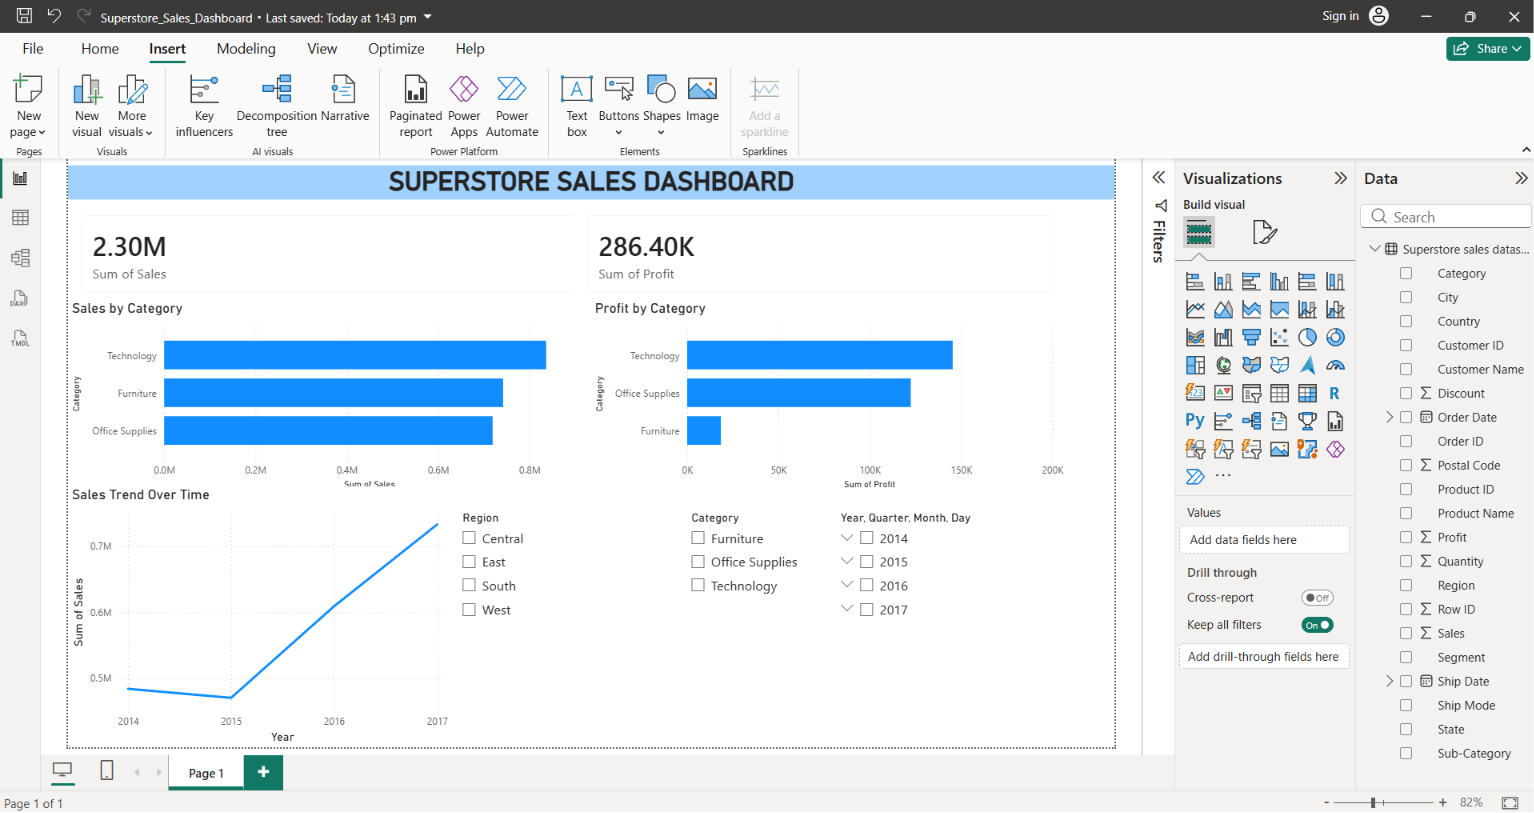

What the dashboard file says about the page in this screenshot:
{"tool":"powerbi","page":{"name":"Page 1","canvas":[1280,720],"ordinal":0},"visuals":[{"type":"cardVisual","fields":{"Data":["Sum(Superstore sales dataset.Sales)","Sum(Superstore sales dataset.Sales)"]},"box":[0,52.6,640.8,128.4],"z":0},{"type":"cardVisual","fields":{"Data":["Sum(Superstore sales dataset.Profit)"]},"box":[618.8,52.6,604.1,128.4],"z":1000},{"type":"clusteredBarChart","title":"Sales by Category","fields":{"Category":["Superstore sales dataset.Category"],"Y":["Sum(Superstore sales dataset.Sales)"]},"box":[0,172.4,639.5,237.2],"z":2000},{"type":"clusteredBarChart","title":"Profit by Category","fields":{"Category":["Superstore sales dataset.Category"],"Y":["Sum(Superstore sales dataset.Profit)"]},"box":[639.5,172.4,583.3,237.2],"z":3000},{"type":"lineChart","title":"Sales Trend Over Time","fields":{"Category":["Superstore sales dataset.Order Date.Variation.Date Hierarchy.Year","Superstore sales dataset.Order Date.Variation.Date Hierarchy.Quarter","Superstore sales dataset.Order Date.Variation.Date Hierarchy.Month","Superstore sales dataset.Order Date.Variation.Date Hierarchy.Day"],"Y":["Sum(Superstore sales dataset.Sales)"]},"box":[0,401.1,469.6,319.2],"z":4000},{"type":"slicer","fields":{"Values":["Superstore sales dataset.Region"]},"box":[469.6,425.5,280,271.5],"z":5000},{"type":"slicer","fields":{"Values":["Superstore sales dataset.Category"]},"box":[749.6,425.5,168.8,143.1],"z":6000},{"type":"slicer","fields":{"Values":["Superstore sales dataset.Order Date.Variation.Date Hierarchy.Year","Superstore sales dataset.Order Date.Variation.Date Hierarchy.Quarter","Superstore sales dataset.Order Date.Variation.Date Hierarchy.Month","Superstore sales dataset.Order Date.Variation.Date Hierarchy.Day"]},"box":[931.8,425.5,280,229.9],"z":7000},{"type":"textbox","title":"SUPERSTORE SALES DASHBOARD","box":[0,8.6,1280.3,44],"z":9000}]}

Visuals, with their boxes on the page's 1280x720 design canvas (x1, y1, x2, y2). These are canvas units, not pixel positions in the 1534x813 screenshot, which may show the page scaled, cropped or inside an application window:
cardVisual - Sum(Superstore sales dataset.Sales) x Sum(Superstore sales dataset.Sales): box(0, 53, 641, 181)
cardVisual - Sum(Superstore sales dataset.Profit): box(619, 53, 1223, 181)
"Sales by Category" clusteredBarChart: box(0, 172, 640, 410)
"Profit by Category" clusteredBarChart: box(640, 172, 1223, 410)
"Sales Trend Over Time" lineChart: box(0, 401, 470, 720)
slicer - Superstore sales dataset.Region: box(470, 426, 750, 697)
slicer - Superstore sales dataset.Category: box(750, 426, 918, 569)
slicer - Superstore sales dataset.Order Date.Variation.Date Hierarchy.Year x Superstore sales dataset.Order Date.Variation.Date Hierarchy.Quarter: box(932, 426, 1212, 655)
"SUPERSTORE SALES DASHBOARD" textbox: box(0, 9, 1280, 53)
